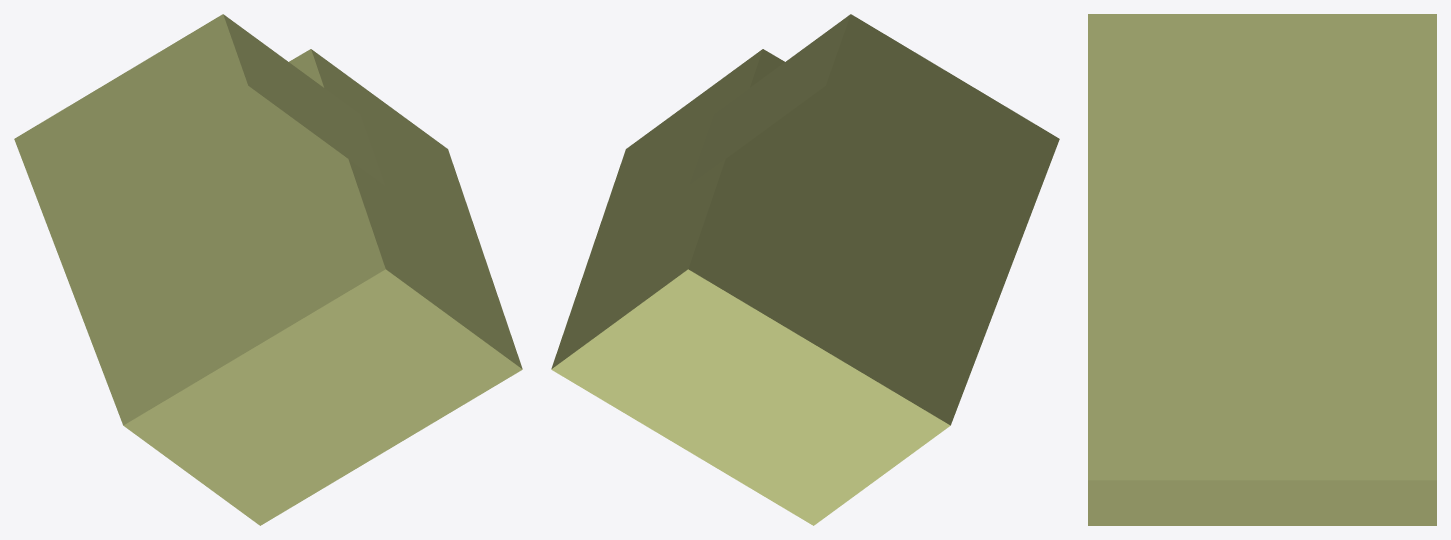
The picture shows the model from 3 angles, left to right: view 1: azimuth 30°, elevation 25°; view 2: azimuth 150°, elevation 25°; view 3: azimuth 270°, elevation 25°; orthographic projection. The views are drawn at different scales.
Visible parts, largest first — view 1: 0_1_0_2_0_2_0_3_0_2; view 2: 0_1_0_2_0_2_0_3_0_2; view 3: 0_1_0_2_0_2_0_3_0_2.
Boxes of the visible parts, x1=… form: 0_1_0_2_0_2_0_3_0_2: x1=14, y1=14, x2=522, y2=525; 0_1_0_2_0_2_0_3_0_2: x1=551, y1=14, x2=1059, y2=525; 0_1_0_2_0_2_0_3_0_2: x1=1088, y1=14, x2=1436, y2=525.
Bounding box in the file's own units: 14.09 × 14.03 × 9.
